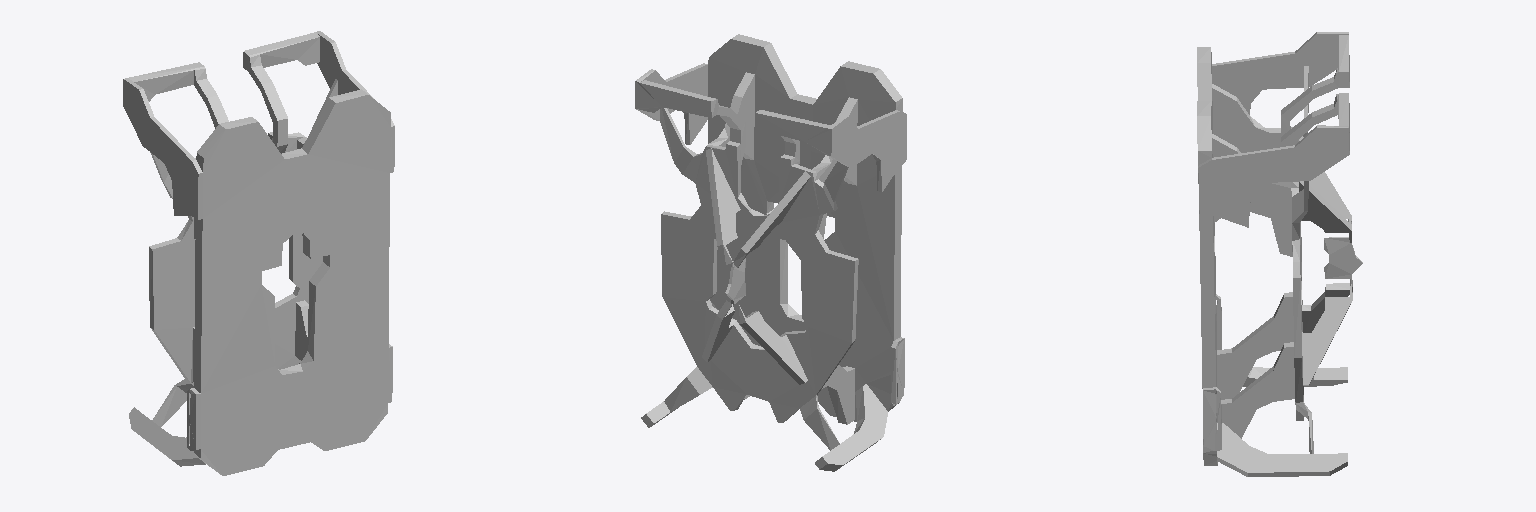
Rendered from bluevolta_base2.obj.
The picture shows the model from 3 angles: view 1: azimuth 30°, elevation 25°; view 2: azimuth 150°, elevation 25°; view 3: azimuth 270°, elevation 25°; orthographic projection.
Parts seen in each view (by area): view 1: Blue_Volta-eROV.simplified.V2_OBJ2_CoverPlat1; view 2: Blue_Volta-eROV.simplified.V2_OBJ2_CoverPlat1; view 3: Blue_Volta-eROV.simplified.V2_OBJ2_CoverPlat1.
Boxes of the visible parts, x1,y1,x2,y2 form: Blue_Volta-eROV.simplified.V2_OBJ2_CoverPlat1: [123, 31, 394, 475]; Blue_Volta-eROV.simplified.V2_OBJ2_CoverPlat1: [635, 34, 906, 471]; Blue_Volta-eROV.simplified.V2_OBJ2_CoverPlat1: [1197, 32, 1362, 476].
Bounding box in the file's own units: 0.8943 × 1.51 × 0.6427.